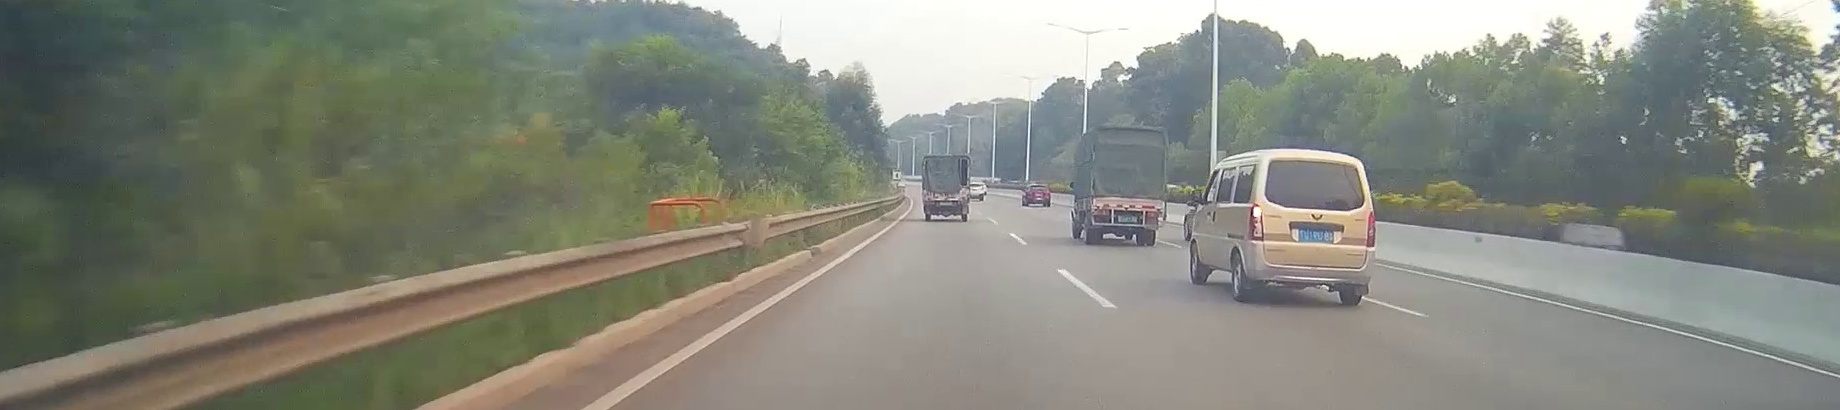L_light: (1249, 203, 1265, 242), (1094, 210, 1108, 215)
R_light: (1365, 210, 1376, 247), (1146, 211, 1159, 217)
T_light: (1310, 160, 1326, 166), (1123, 204, 1130, 208)
day-left: (1249, 149, 1376, 307)
day-no: (1089, 125, 1166, 247)
